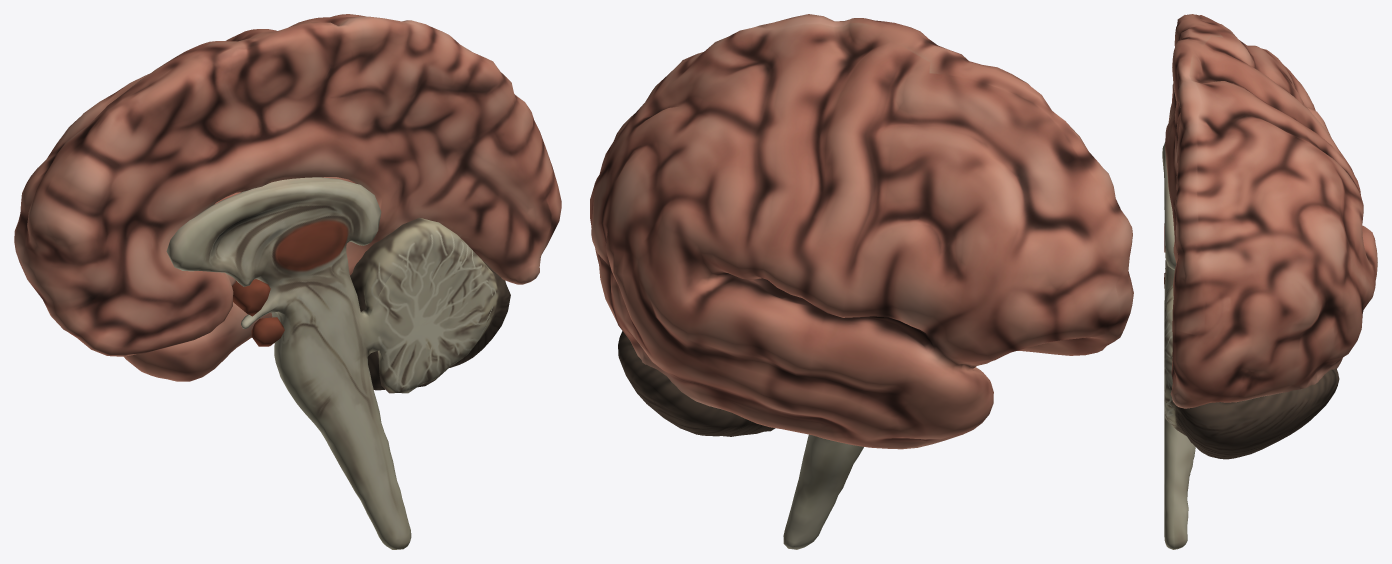
Rendered from cerebellum.glb.
3 views of the same model, side by side, from view 1: azimuth 30°, elevation 25°; view 2: azimuth 150°, elevation 25°; view 3: azimuth 270°, elevation 25° (orthographic). The views are drawn at different scales.
Visible parts, largest first — view 1: low; view 2: low; view 3: low.
Part boxes in pixels (x1,y1,x2,y2): low: [14, 14, 561, 549]; low: [590, 14, 1133, 549]; low: [1162, 14, 1377, 549].
Size of the model in its own units: 0.5109 by 0.5079 by 0.2162.
1 material, 1 textured.
